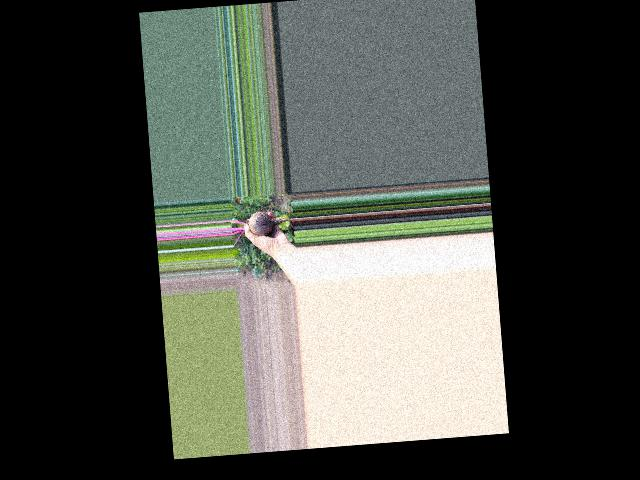beet: (229, 199, 296, 247)
